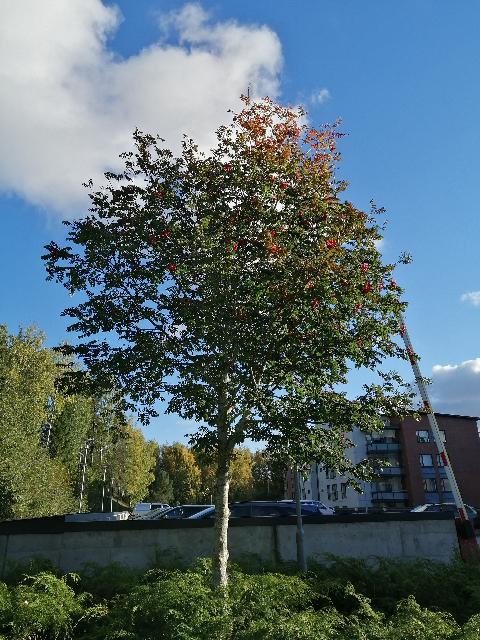rowan: (34, 77, 437, 636)
